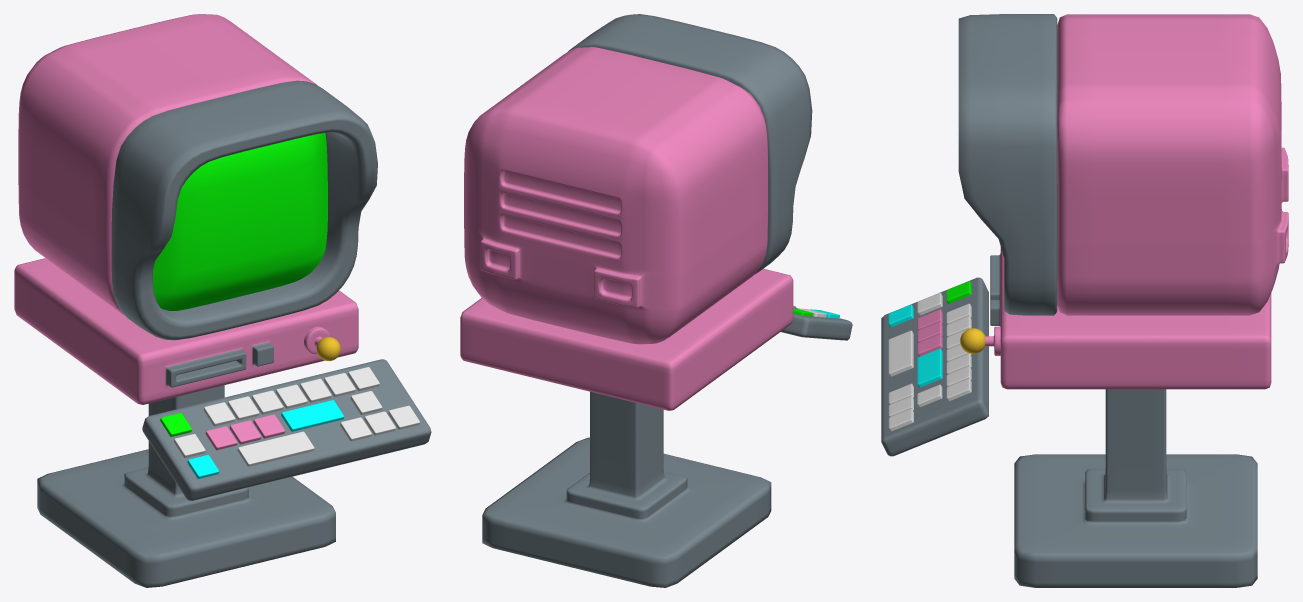
File: Komputer.glb
3 views of the same model, side by side, from view 1: azimuth 30°, elevation 25°; view 2: azimuth 150°, elevation 25°; view 3: azimuth 270°, elevation 25° (orthographic). The views are drawn at different scales.
Parts seen in each view (by area): view 1: pCube35, pCube36, pCube1, polySurface2, pCube2, pCube3, pCube17, pCube27; view 2: pCube35, pCube1, pCube2, pCube36, pCube3; view 3: pCube35, pCube1, pCube36, pCube2, pCube3, pCube17, pCube27, pSphere1.
Part boxes in pixels (bbox=[...]): pCube35: bbox=[18, 14, 316, 315]; pCube36: bbox=[111, 80, 377, 340]; pCube1: bbox=[37, 385, 335, 587]; polySurface2: bbox=[153, 133, 327, 310]; pCube2: bbox=[14, 258, 358, 404]; pCube3: bbox=[142, 359, 431, 500]; pCube17: bbox=[237, 431, 314, 466]; pCube27: bbox=[281, 400, 344, 431]; pCube35: bbox=[464, 47, 768, 344]; pCube1: bbox=[482, 391, 771, 587]; pCube2: bbox=[460, 268, 793, 410]; pCube36: bbox=[568, 14, 812, 273]; pCube3: bbox=[781, 307, 852, 340]; pCube35: bbox=[1057, 14, 1288, 315]; pCube1: bbox=[1014, 389, 1257, 587]; pCube36: bbox=[958, 14, 1057, 315]; pCube2: bbox=[990, 247, 1271, 389]; pCube3: bbox=[881, 277, 988, 456]; pCube17: bbox=[888, 330, 913, 376]; pCube27: bbox=[917, 348, 942, 387]; pSphere1: bbox=[960, 328, 985, 353].
Size of the model in its own units: 0.9899 by 1.79 by 1.36.
